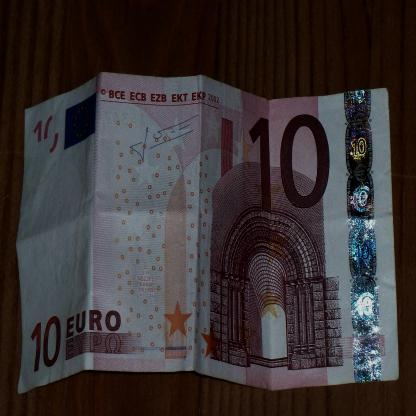euro_banknote: (13, 69, 396, 394)
